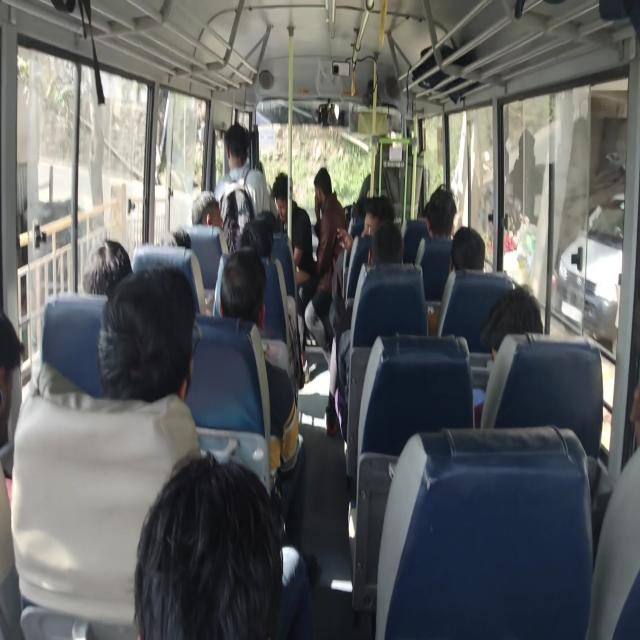person: (11, 263, 202, 637), (133, 449, 311, 639), (215, 246, 303, 509), (325, 195, 395, 436), (586, 379, 640, 638), (98, 263, 196, 403), (472, 284, 544, 428), (301, 166, 347, 350), (428, 226, 485, 336), (213, 122, 270, 228), (480, 284, 544, 361), (270, 172, 314, 280), (0, 310, 25, 500), (82, 238, 133, 298), (424, 185, 457, 241), (450, 225, 485, 272), (191, 190, 223, 228)
